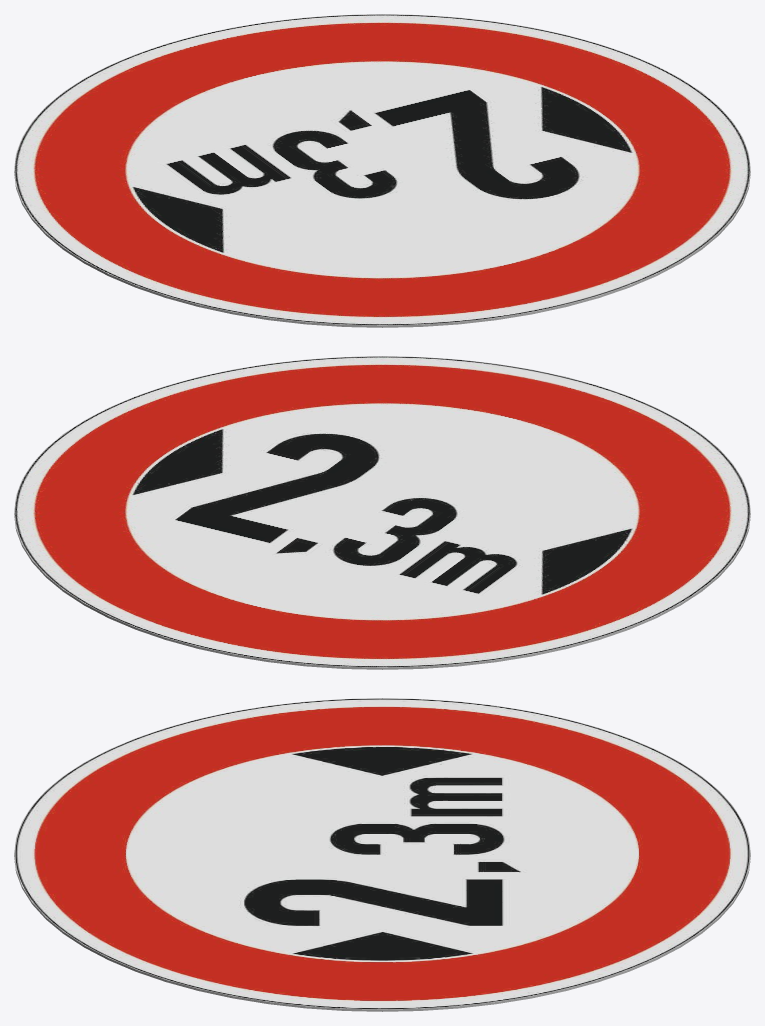
3 renders of one model, top to bottom at view 1: azimuth 30°, elevation 25°; view 2: azimuth 150°, elevation 25°; view 3: azimuth 270°, elevation 25°, orthographic.
Parts seen in each view (by area): view 1: Circle_Schild_Rund; view 2: Circle_Schild_Rund; view 3: Circle_Schild_Rund.
Boxes of the visible parts, x1,y1,x2,y2 form: Circle_Schild_Rund: (14, 14, 750, 327); Circle_Schild_Rund: (14, 356, 750, 669); Circle_Schild_Rund: (14, 698, 750, 1011).
Size of the model in its own units: 0.6 by 0.002 by 0.6.
2 materials, 1 textured.
